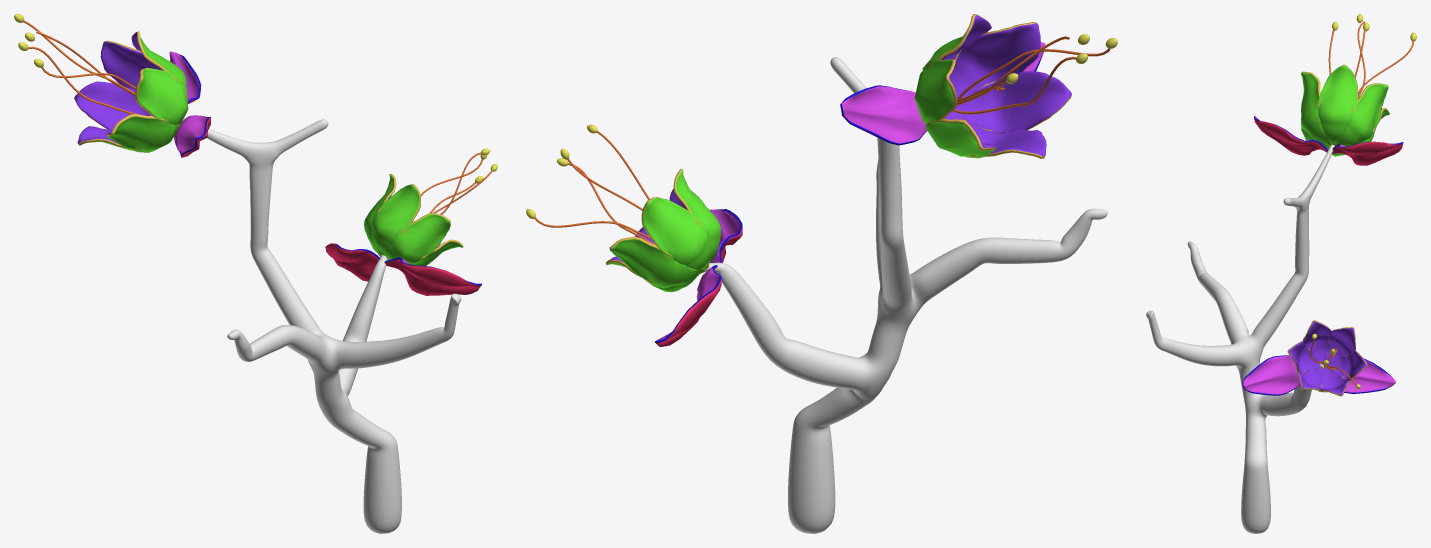
The model's file is flowertreeTR.fbx.
3 views of the same model, side by side, from view 1: azimuth 30°, elevation 25°; view 2: azimuth 150°, elevation 25°; view 3: azimuth 270°, elevation 25° (orthographic). The views are drawn at different scales.
Visible parts, largest first — view 1: Sphere.001; view 2: Sphere.001; view 3: Sphere.001.
Part boxes in pixels (box(x1,y1,x2,y2)): Sphere.001: box(14, 14, 497, 533); Sphere.001: box(526, 14, 1117, 533); Sphere.001: box(1146, 14, 1416, 533).
Size of the model in its own units: 353 by 378 by 228.
